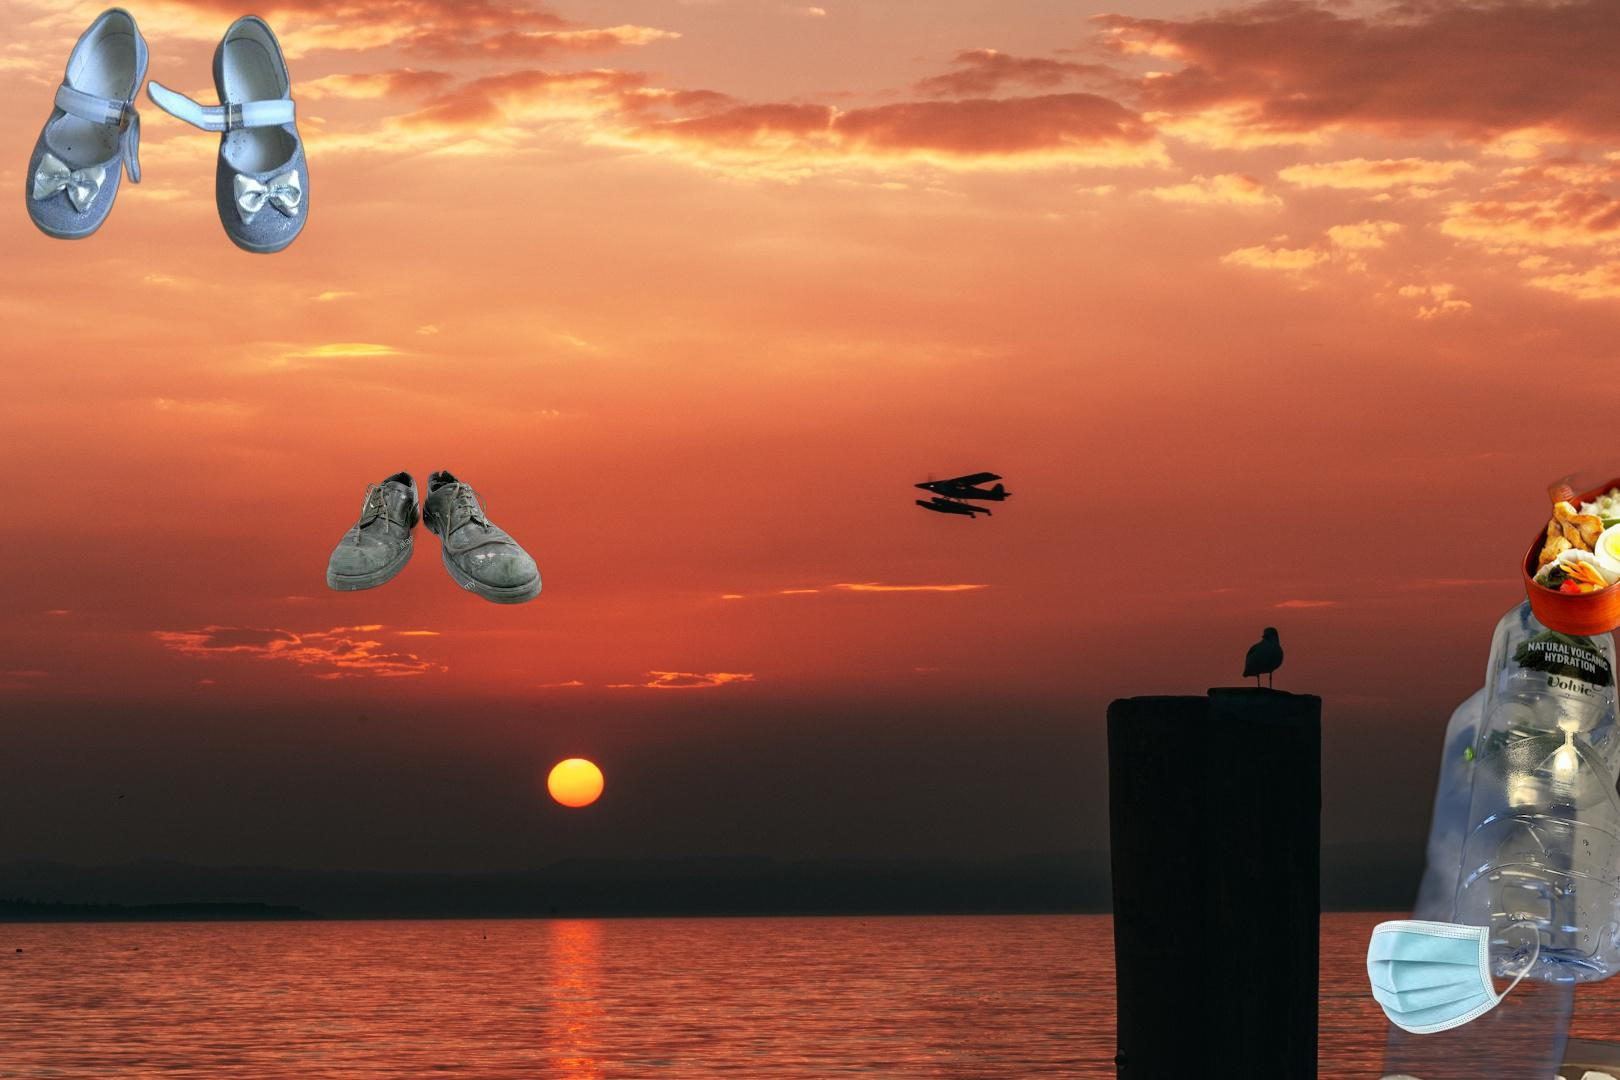biological: (1519, 444, 1620, 676), (1437, 681, 1498, 816), (1554, 963, 1620, 1080)
plastic-bottles: (1307, 585, 1620, 1080), (1357, 1068, 1601, 1080)
shoes: (22, 4, 313, 258), (323, 466, 545, 607)
trash: (1363, 915, 1546, 1037)
